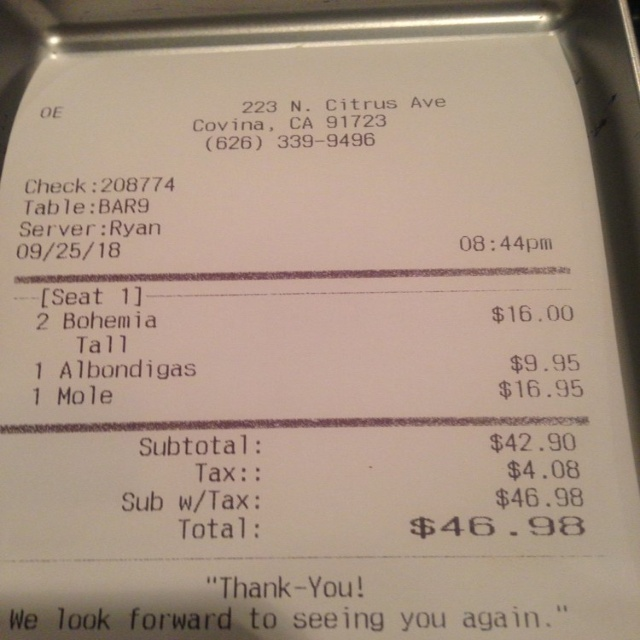invoice_table: (28, 301, 586, 408)
invoice_title: (189, 94, 454, 153)
invoice_total: (175, 513, 591, 541)
